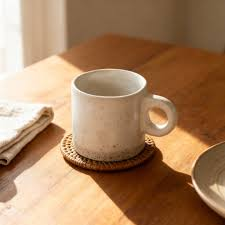mug: (43, 61, 192, 173)
